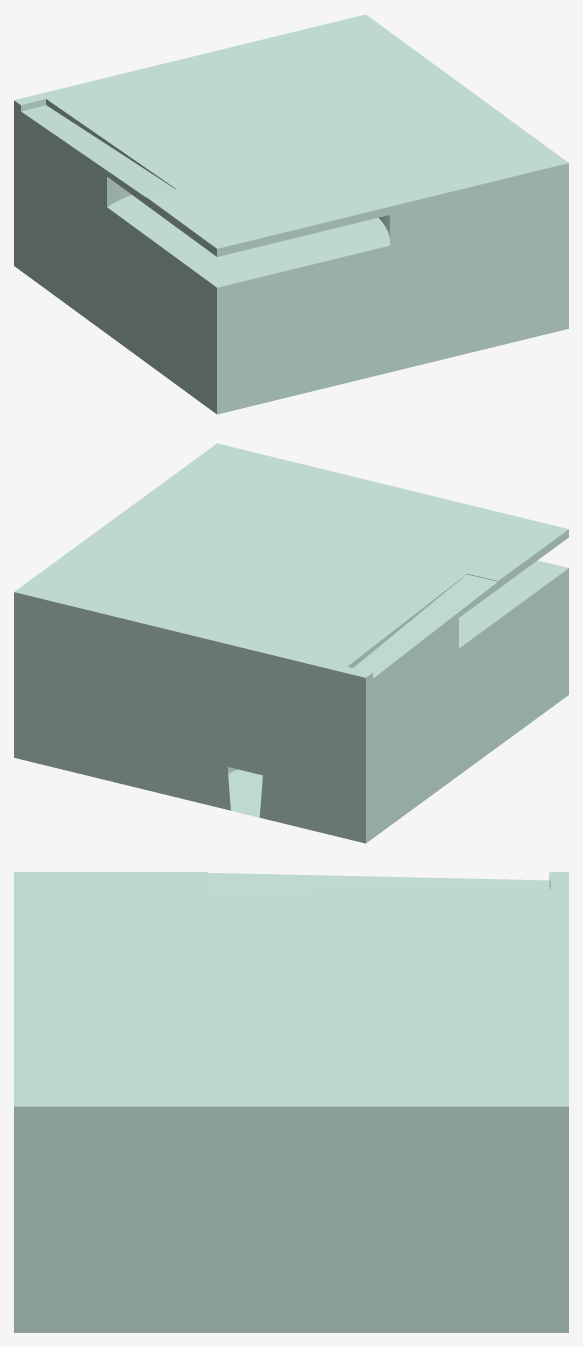
The picture shows the model from 3 angles, top to bottom: view 1: azimuth 30°, elevation 25°; view 2: azimuth 150°, elevation 25°; view 3: azimuth 270°, elevation 25°; orthographic projection. The views are drawn at different scales.
Parts seen in each view (by area): view 1: Renderer Node; view 2: Renderer Node; view 3: Renderer Node.
Boxes of the visible parts, <box> form: Renderer Node: <box>14,14,568,414</box>; Renderer Node: <box>14,443,568,843</box>; Renderer Node: <box>14,872,568,1332</box>.
Bounding box in the file's own units: 1.41 × 0.6328 × 1.41.
